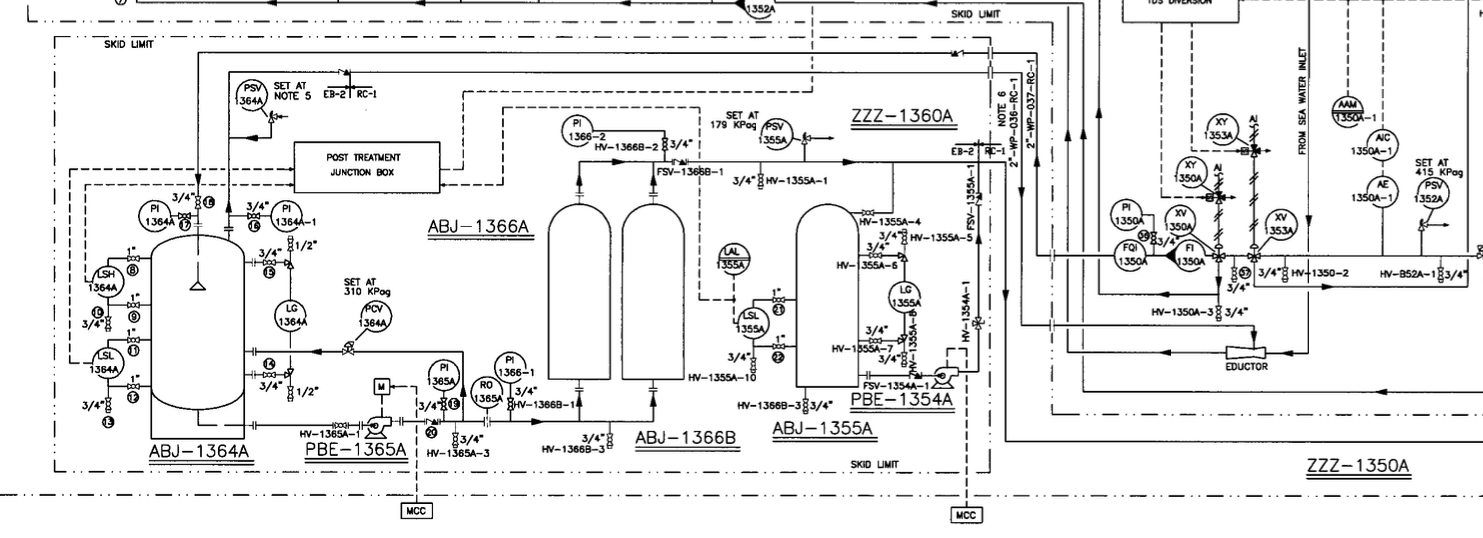Instrument-offset: (1351, 175, 1405, 218), (712, 235, 758, 284), (552, 109, 609, 148), (754, 111, 801, 157), (267, 197, 325, 234), (1348, 128, 1404, 166), (491, 345, 540, 386), (1409, 176, 1458, 217), (875, 281, 929, 318), (1325, 92, 1376, 131), (464, 369, 510, 410), (1106, 186, 1147, 232), (1164, 238, 1209, 278), (1260, 201, 1301, 244), (88, 337, 126, 382), (1203, 102, 1240, 148), (132, 196, 176, 234), (733, 301, 770, 346), (420, 355, 463, 393), (1170, 153, 1210, 192), (85, 261, 127, 298), (1112, 238, 1151, 277), (354, 301, 398, 333), (235, 76, 270, 115), (1158, 204, 1199, 237), (273, 299, 312, 333)
